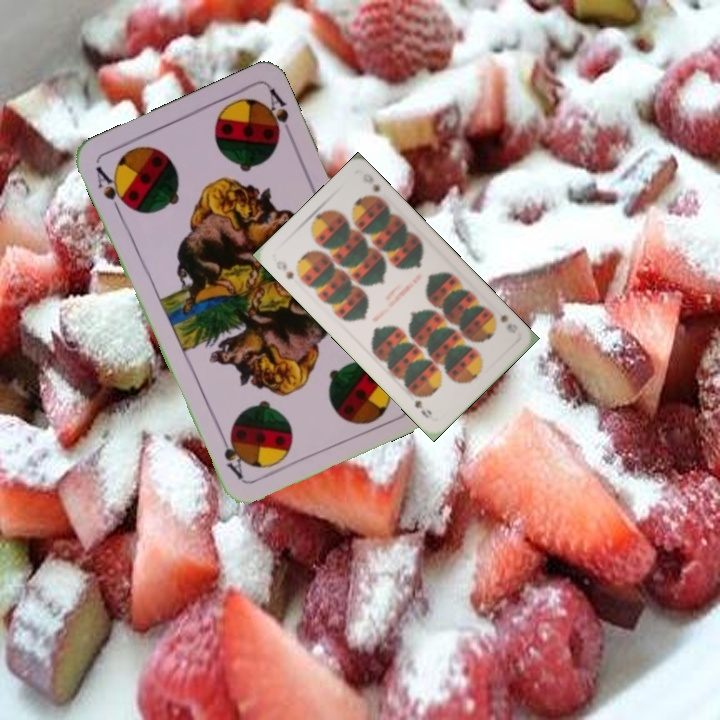S9: (272, 256, 297, 282), (486, 308, 511, 325)
SA: (91, 162, 132, 217)
